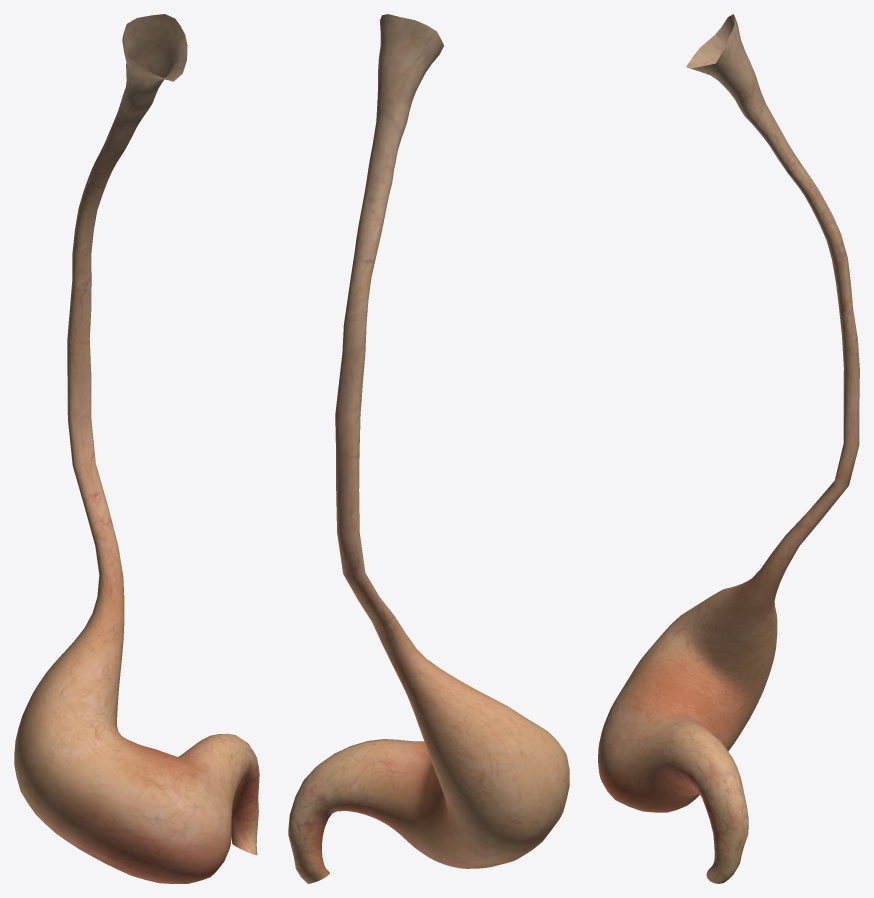
Rendered from estomago.fbx.
3 renders of one model, left to right at view 1: azimuth 30°, elevation 25°; view 2: azimuth 150°, elevation 25°; view 3: azimuth 270°, elevation 25°, orthographic. The views are drawn at different scales.
Visible parts, largest first — view 1: Estomago; view 2: Estomago; view 3: Estomago.
Part boxes in pixels (x1,y1,x2,y2): Estomago: (14, 14, 259, 883); Estomago: (288, 14, 569, 883); Estomago: (598, 14, 859, 883).
Size of the model in its own units: 145 by 485 by 141.
1 material, 1 textured.
